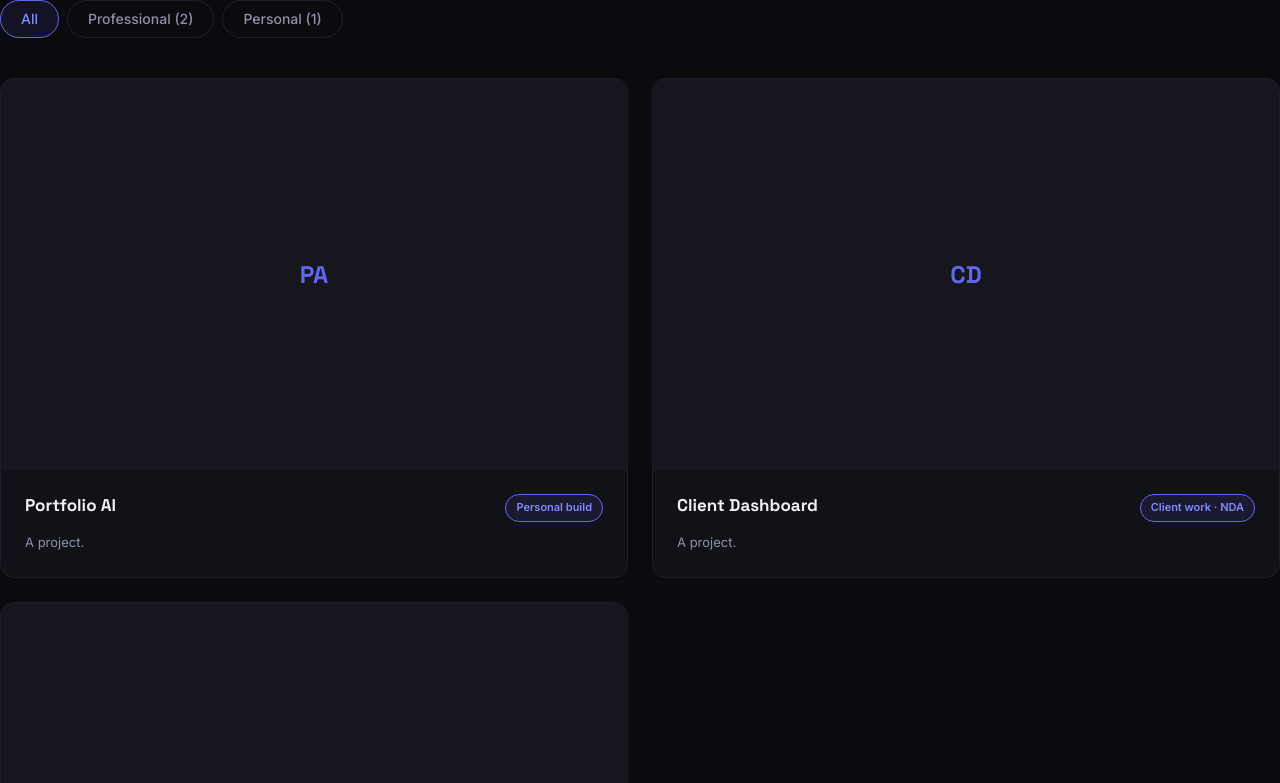
Test: ProjectsGrid › filters to only professional projects
The width and height of the screenshot is (1280, 783).
What coordinates should you click on to do the following:
click the button "professional (2)"
I would click on:
 (141, 19)
Its box is [67,0,214,38].
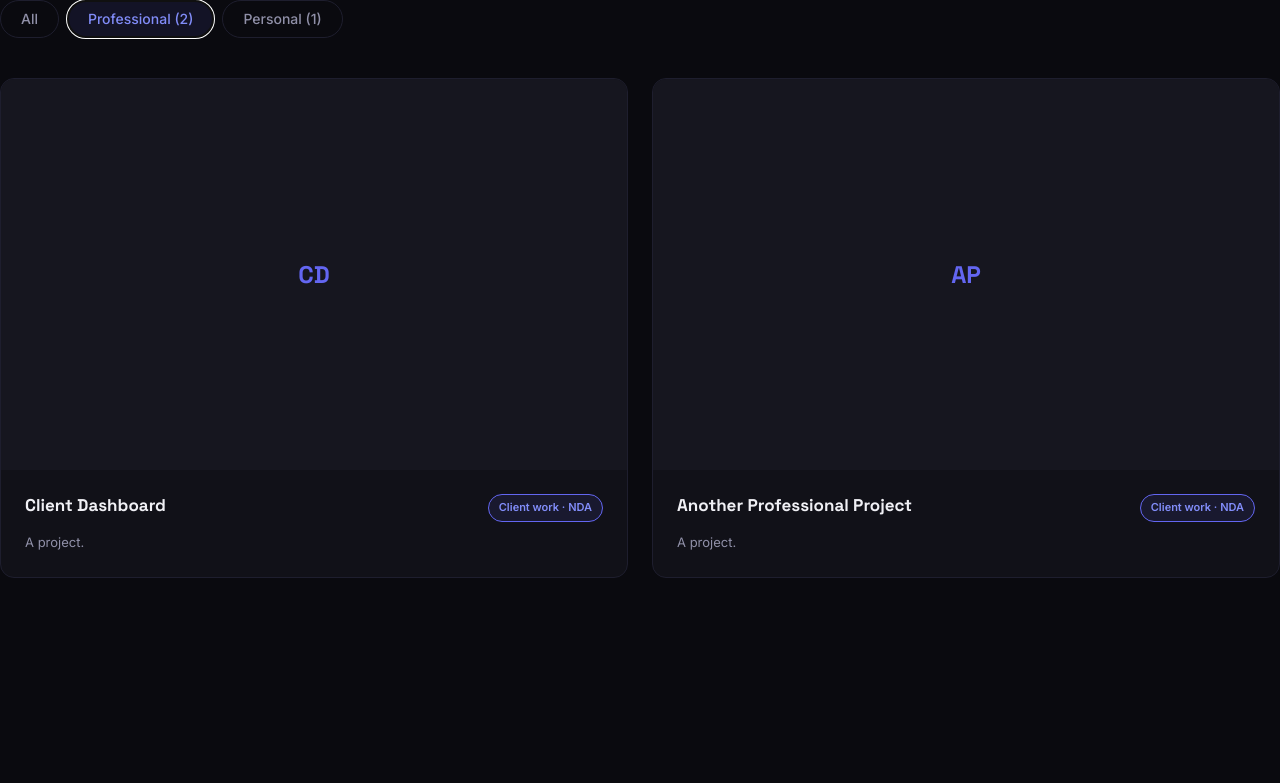
Expected: the heading "Client Dashboard" is shown, [25,494,166,516]
Now the link "Portfolio AI" is gone
